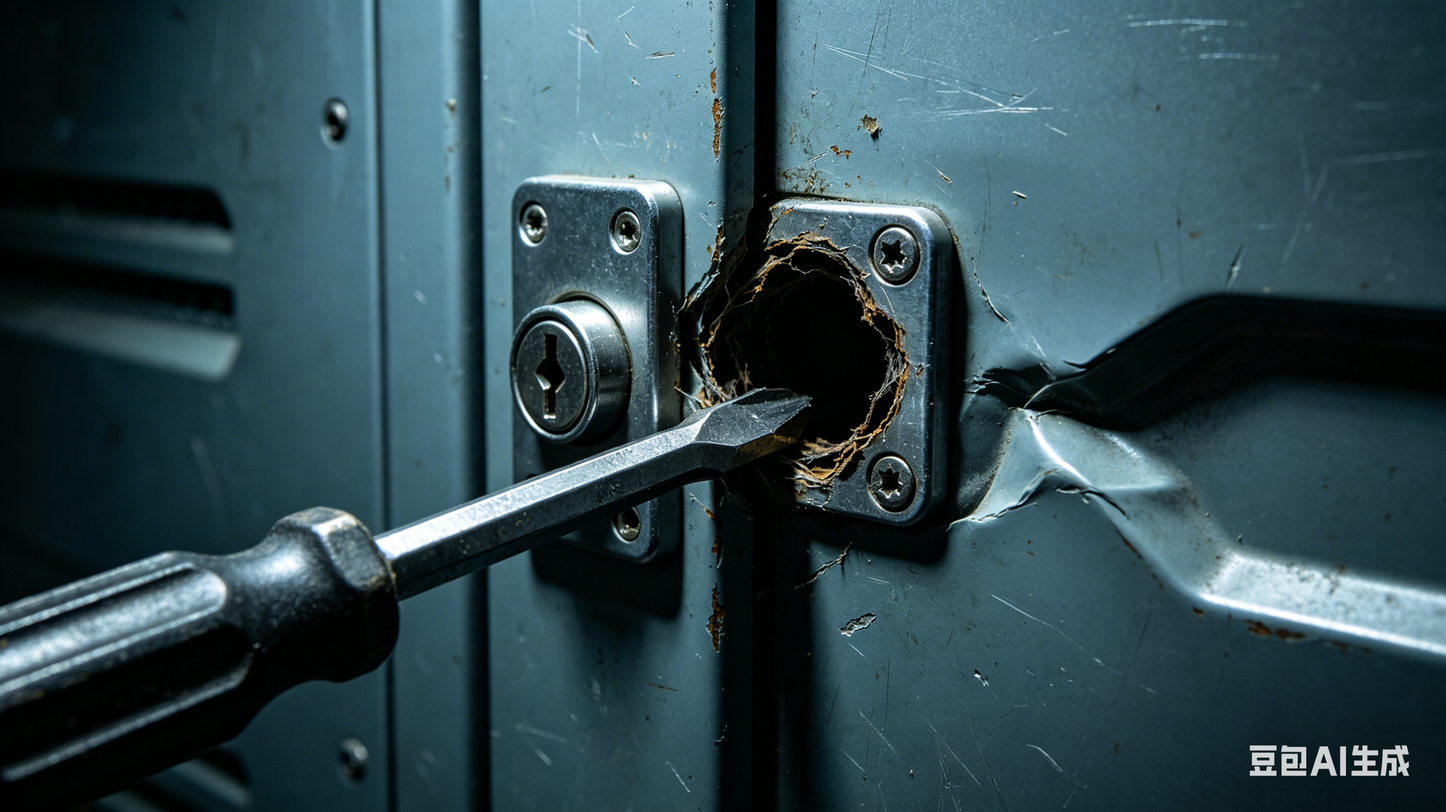BadLock: (659, 246, 931, 463)
